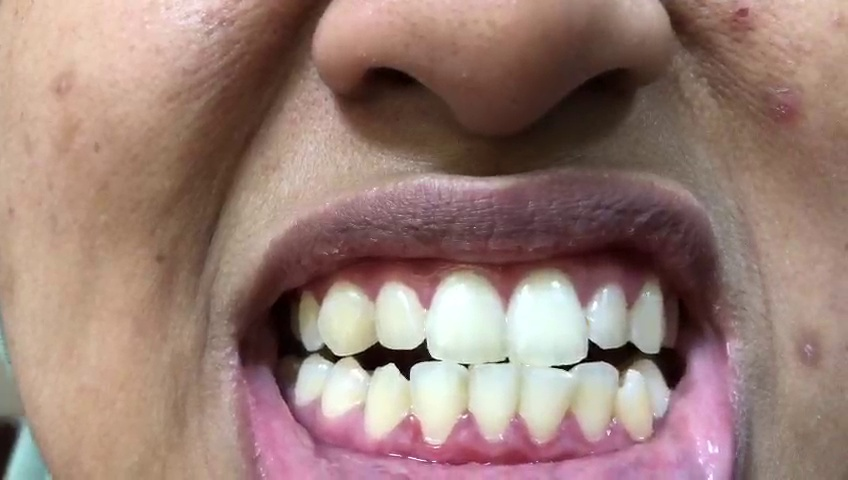1st Premolar: (321, 356, 367, 419), (631, 359, 673, 419), (296, 289, 323, 352)
2nd Premolar: (290, 351, 330, 409)
Canine: (318, 276, 376, 357), (364, 361, 408, 439), (616, 369, 652, 441), (633, 278, 664, 354)
Central Incisor: (507, 267, 590, 365), (424, 269, 509, 362), (469, 358, 520, 440), (521, 359, 571, 442)
Lateral Incisor: (408, 359, 470, 447), (375, 274, 426, 352), (570, 359, 616, 443), (585, 279, 630, 351)
